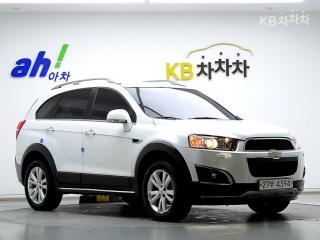2: (262, 181, 266, 188)
3: (281, 180, 284, 188)
4: (276, 179, 280, 188), (286, 180, 291, 187)
7: (266, 181, 270, 188)
9: (283, 180, 287, 188)
plate: (256, 177, 296, 192)
무: (270, 180, 275, 188)
